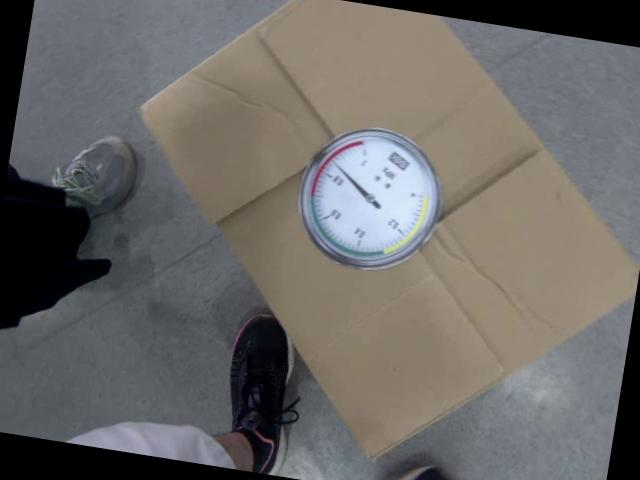Dashboard: (289, 116, 450, 280)
ssi: (386, 149, 412, 174)
